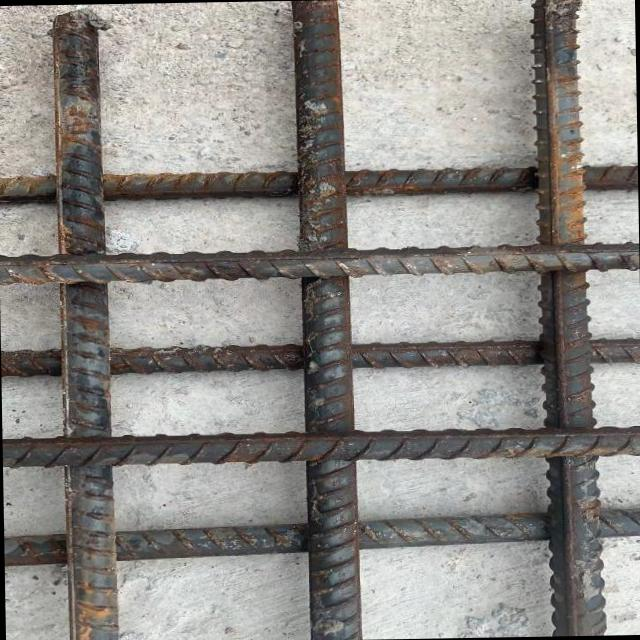ribbed bar: (526, 0, 606, 635), (283, 0, 362, 639), (49, 7, 118, 640), (3, 505, 640, 566), (0, 239, 638, 285), (2, 423, 640, 468), (1, 338, 640, 378), (0, 162, 636, 202)
